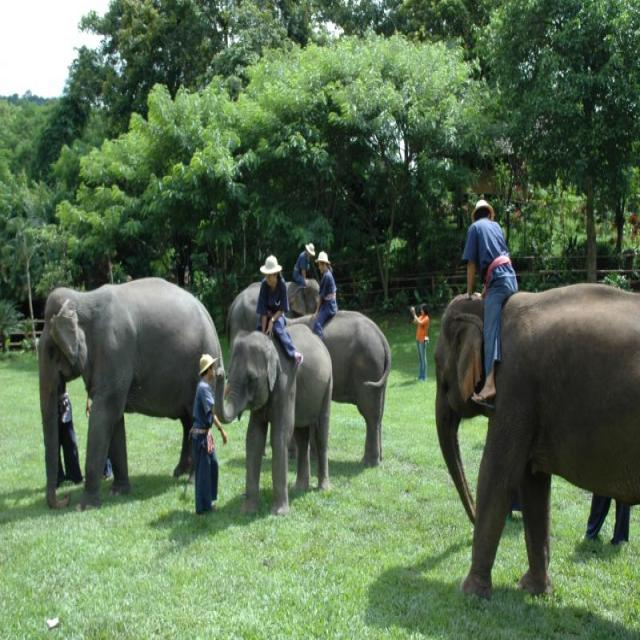Elephant: (427, 275, 640, 639), (23, 250, 221, 541), (222, 309, 333, 537), (304, 301, 411, 470)
